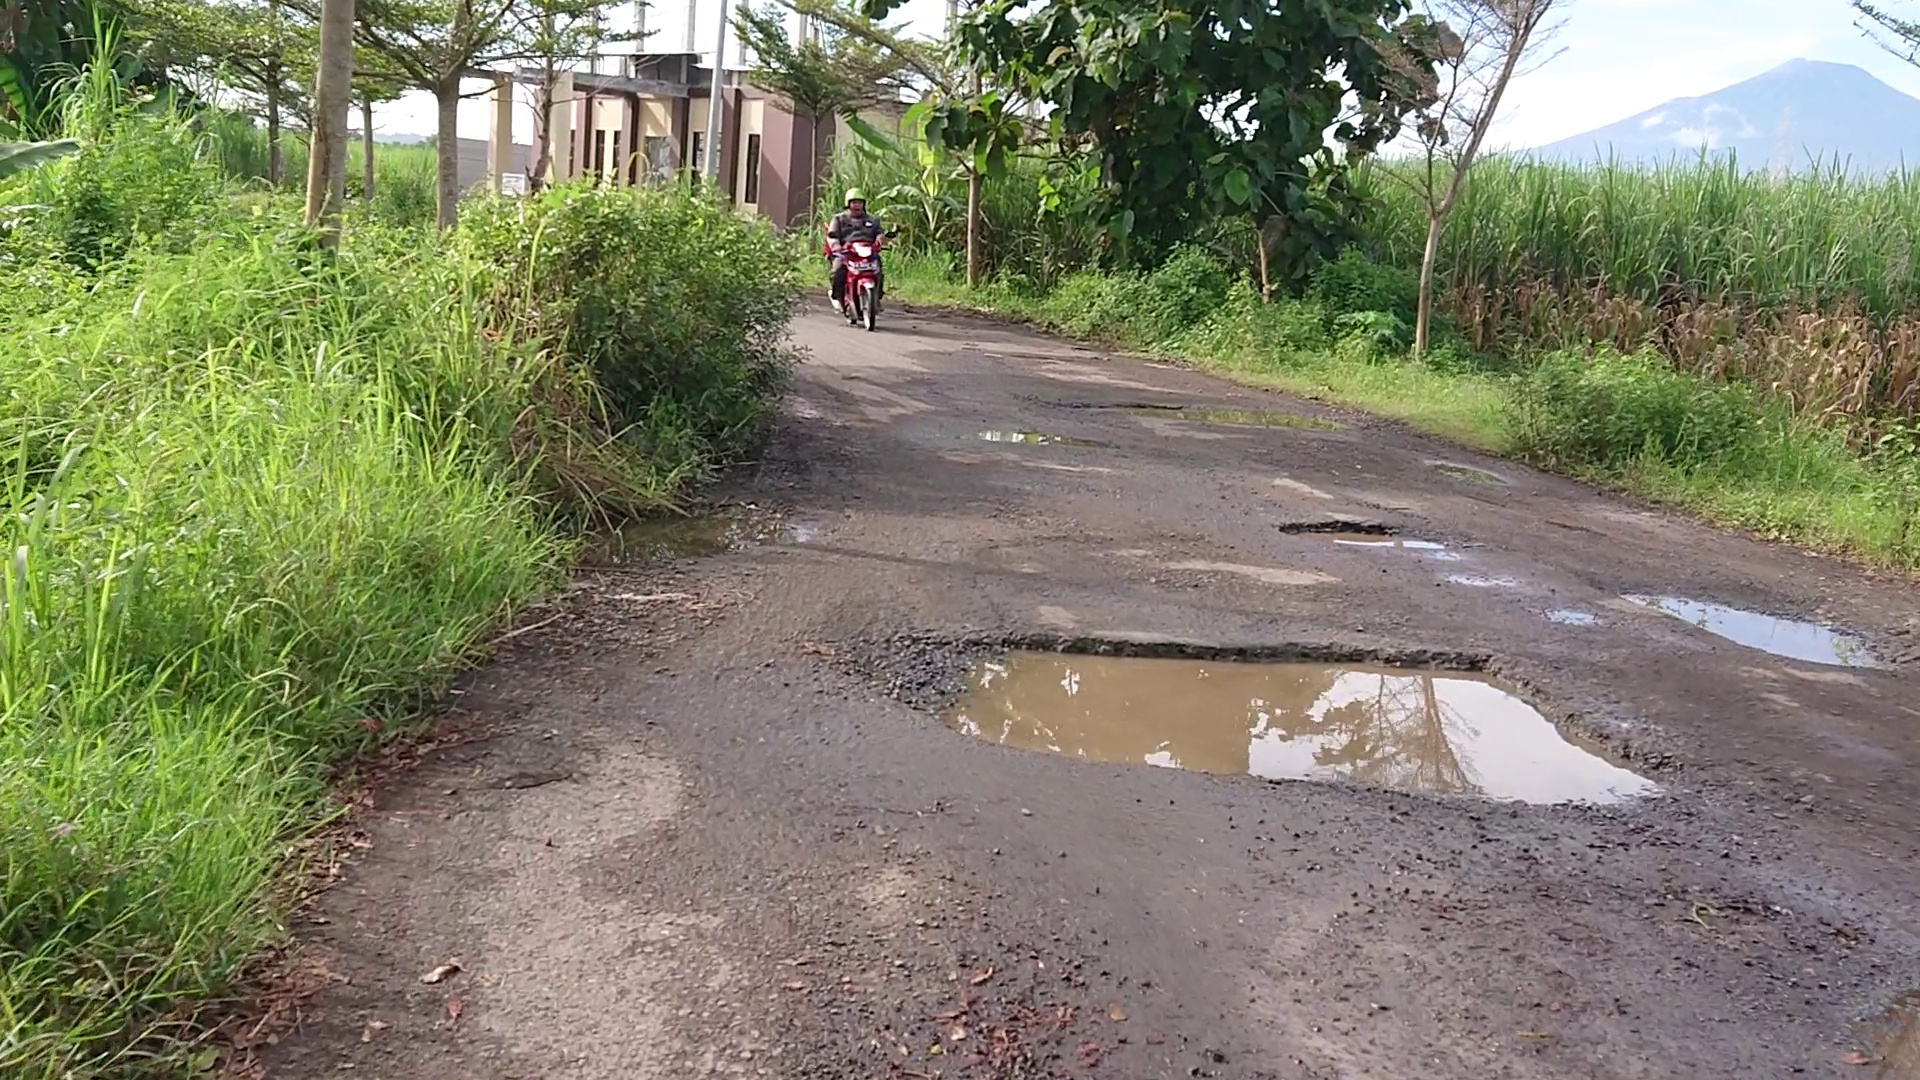Berlubang: (914, 641, 1635, 806), (1601, 578, 1865, 658), (1291, 509, 1443, 562), (1075, 400, 1294, 429)
